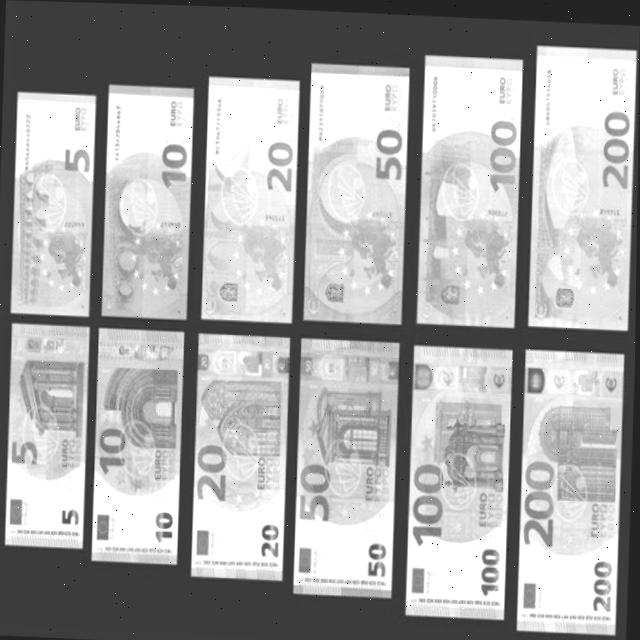banknote: (400, 328, 523, 628), (411, 40, 534, 339), (515, 338, 630, 640), (290, 326, 412, 609), (299, 46, 416, 334), (529, 31, 636, 338), (194, 58, 304, 331), (192, 319, 296, 587), (88, 317, 191, 577), (99, 68, 199, 324), (2, 316, 93, 555), (8, 87, 97, 320), (522, 450, 562, 553), (411, 452, 452, 548), (481, 110, 519, 196), (194, 432, 236, 506), (297, 452, 339, 524), (600, 97, 631, 193), (150, 135, 196, 191), (371, 117, 406, 185), (7, 420, 42, 485), (263, 134, 298, 199), (98, 422, 132, 476), (473, 540, 506, 595), (590, 550, 616, 615), (252, 518, 287, 564), (149, 501, 181, 549), (60, 142, 94, 180), (365, 536, 392, 582), (57, 494, 82, 532)
